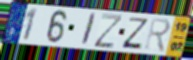1: (20, 7, 39, 42)
6: (45, 9, 69, 46)
I: (79, 12, 98, 47)
R: (143, 17, 172, 54)
Z: (92, 13, 125, 50), (120, 16, 150, 51)
